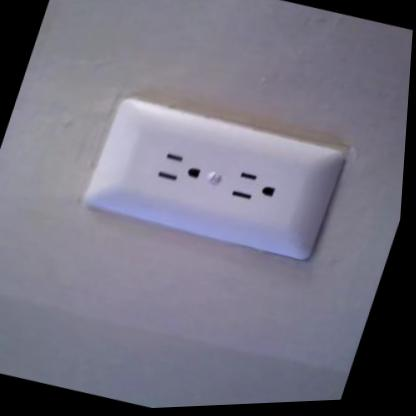OUTLET: (74, 85, 350, 274)
